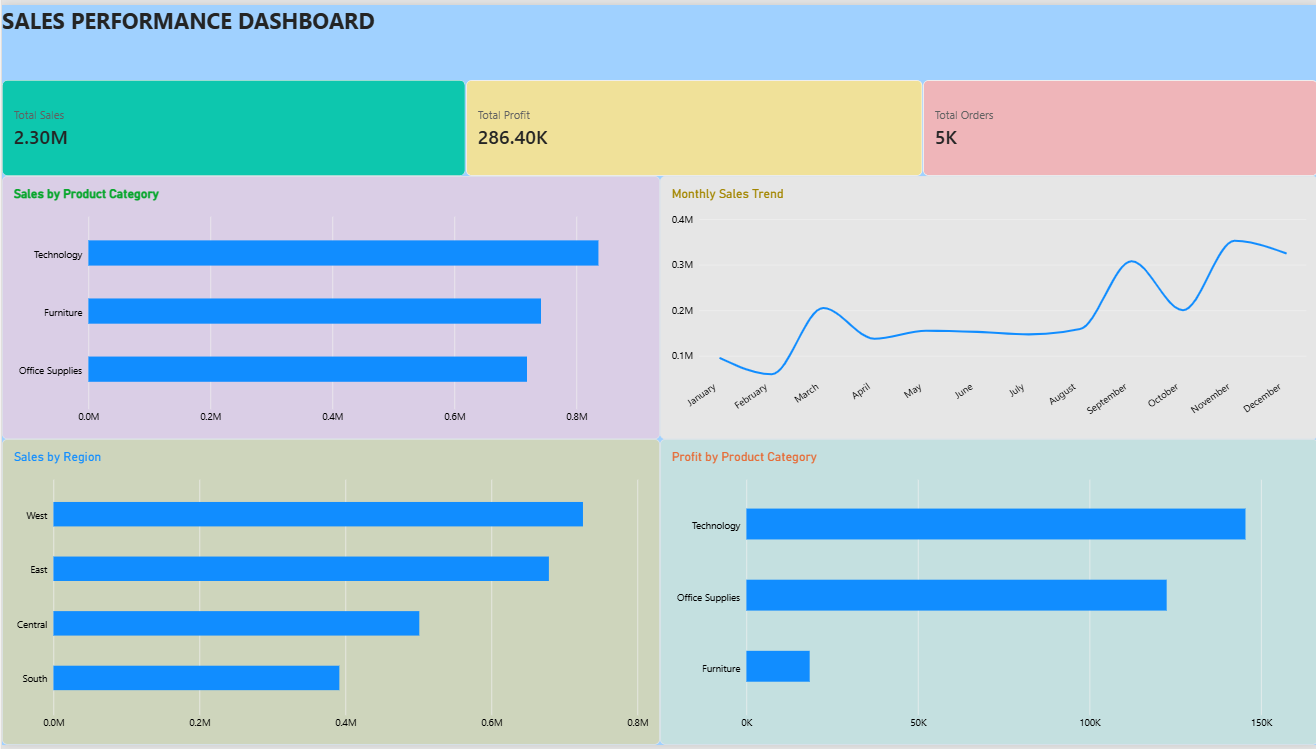

The dashboard page shown, as its layout file describes it:
{"tool":"powerbi","page":{"name":"Page 1","canvas":[1920,1080],"ordinal":0},"visuals":[{"type":"cardVisual","fields":{"Data":["Sample - Superstore.Total Sales"]},"box":[0,109.4,677,140.1],"z":0},{"type":"cardVisual","fields":{"Data":["Sample - Superstore.Total Profit"]},"box":[677,109.4,666.7,140.1],"z":1},{"type":"cardVisual","fields":{"Data":["Sample - Superstore.Total Orders"]},"box":[1343.7,109.4,576.3,140.1],"z":2},{"type":"clusteredBarChart","title":"Sales by Product Category","fields":{"Category":["Sample - Superstore.Category"],"Y":["Sum(Sample - Superstore.Sales)"]},"box":[0,249.5,960,383.7],"z":3},{"type":"lineChart","title":"Monthly Sales Trend","fields":{"Category":["Sample - Superstore.Order Date.Variation.Date Hierarchy.Month"],"Y":["Sum(Sample - Superstore.Sales)"]},"box":[960,249.5,960,383.7],"z":4},{"type":"clusteredBarChart","title":" Sales by Region","fields":{"Category":["Sample - Superstore.Region"],"Y":["Sum(Sample - Superstore.Sales)"]},"box":[0,633.2,960,446.4],"z":5},{"type":"clusteredBarChart","title":"Profit by Product Category","fields":{"Category":["Sample - Superstore.Category"],"Y":["Sum(Sample - Superstore.Profit)"]},"box":[960,633.2,960,446.4],"z":6},{"type":"textbox","box":[0,0,1920,55.4],"z":7}]}

Visuals, with their boxes in screenshot pixels (x1, y1, x2, y2), scaled from the page's 1920x1080 canvas onto the 1316x749 screenshot:
cardVisual - Sample - Superstore.Total Sales: rect(0, 76, 464, 173)
cardVisual - Sample - Superstore.Total Profit: rect(464, 76, 921, 173)
cardVisual - Sample - Superstore.Total Orders: rect(921, 76, 1315, 173)
"Sales by Product Category" clusteredBarChart: rect(0, 173, 658, 439)
"Monthly Sales Trend" lineChart: rect(658, 173, 1315, 439)
" Sales by Region" clusteredBarChart: rect(0, 439, 658, 748)
"Profit by Product Category" clusteredBarChart: rect(658, 439, 1315, 748)
textbox: rect(0, 0, 1315, 38)
